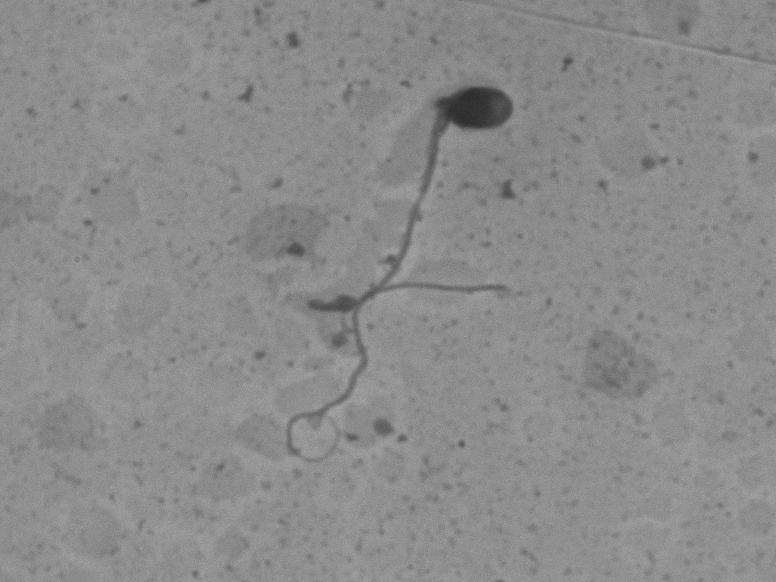Abnormal: (256, 71, 541, 490)
